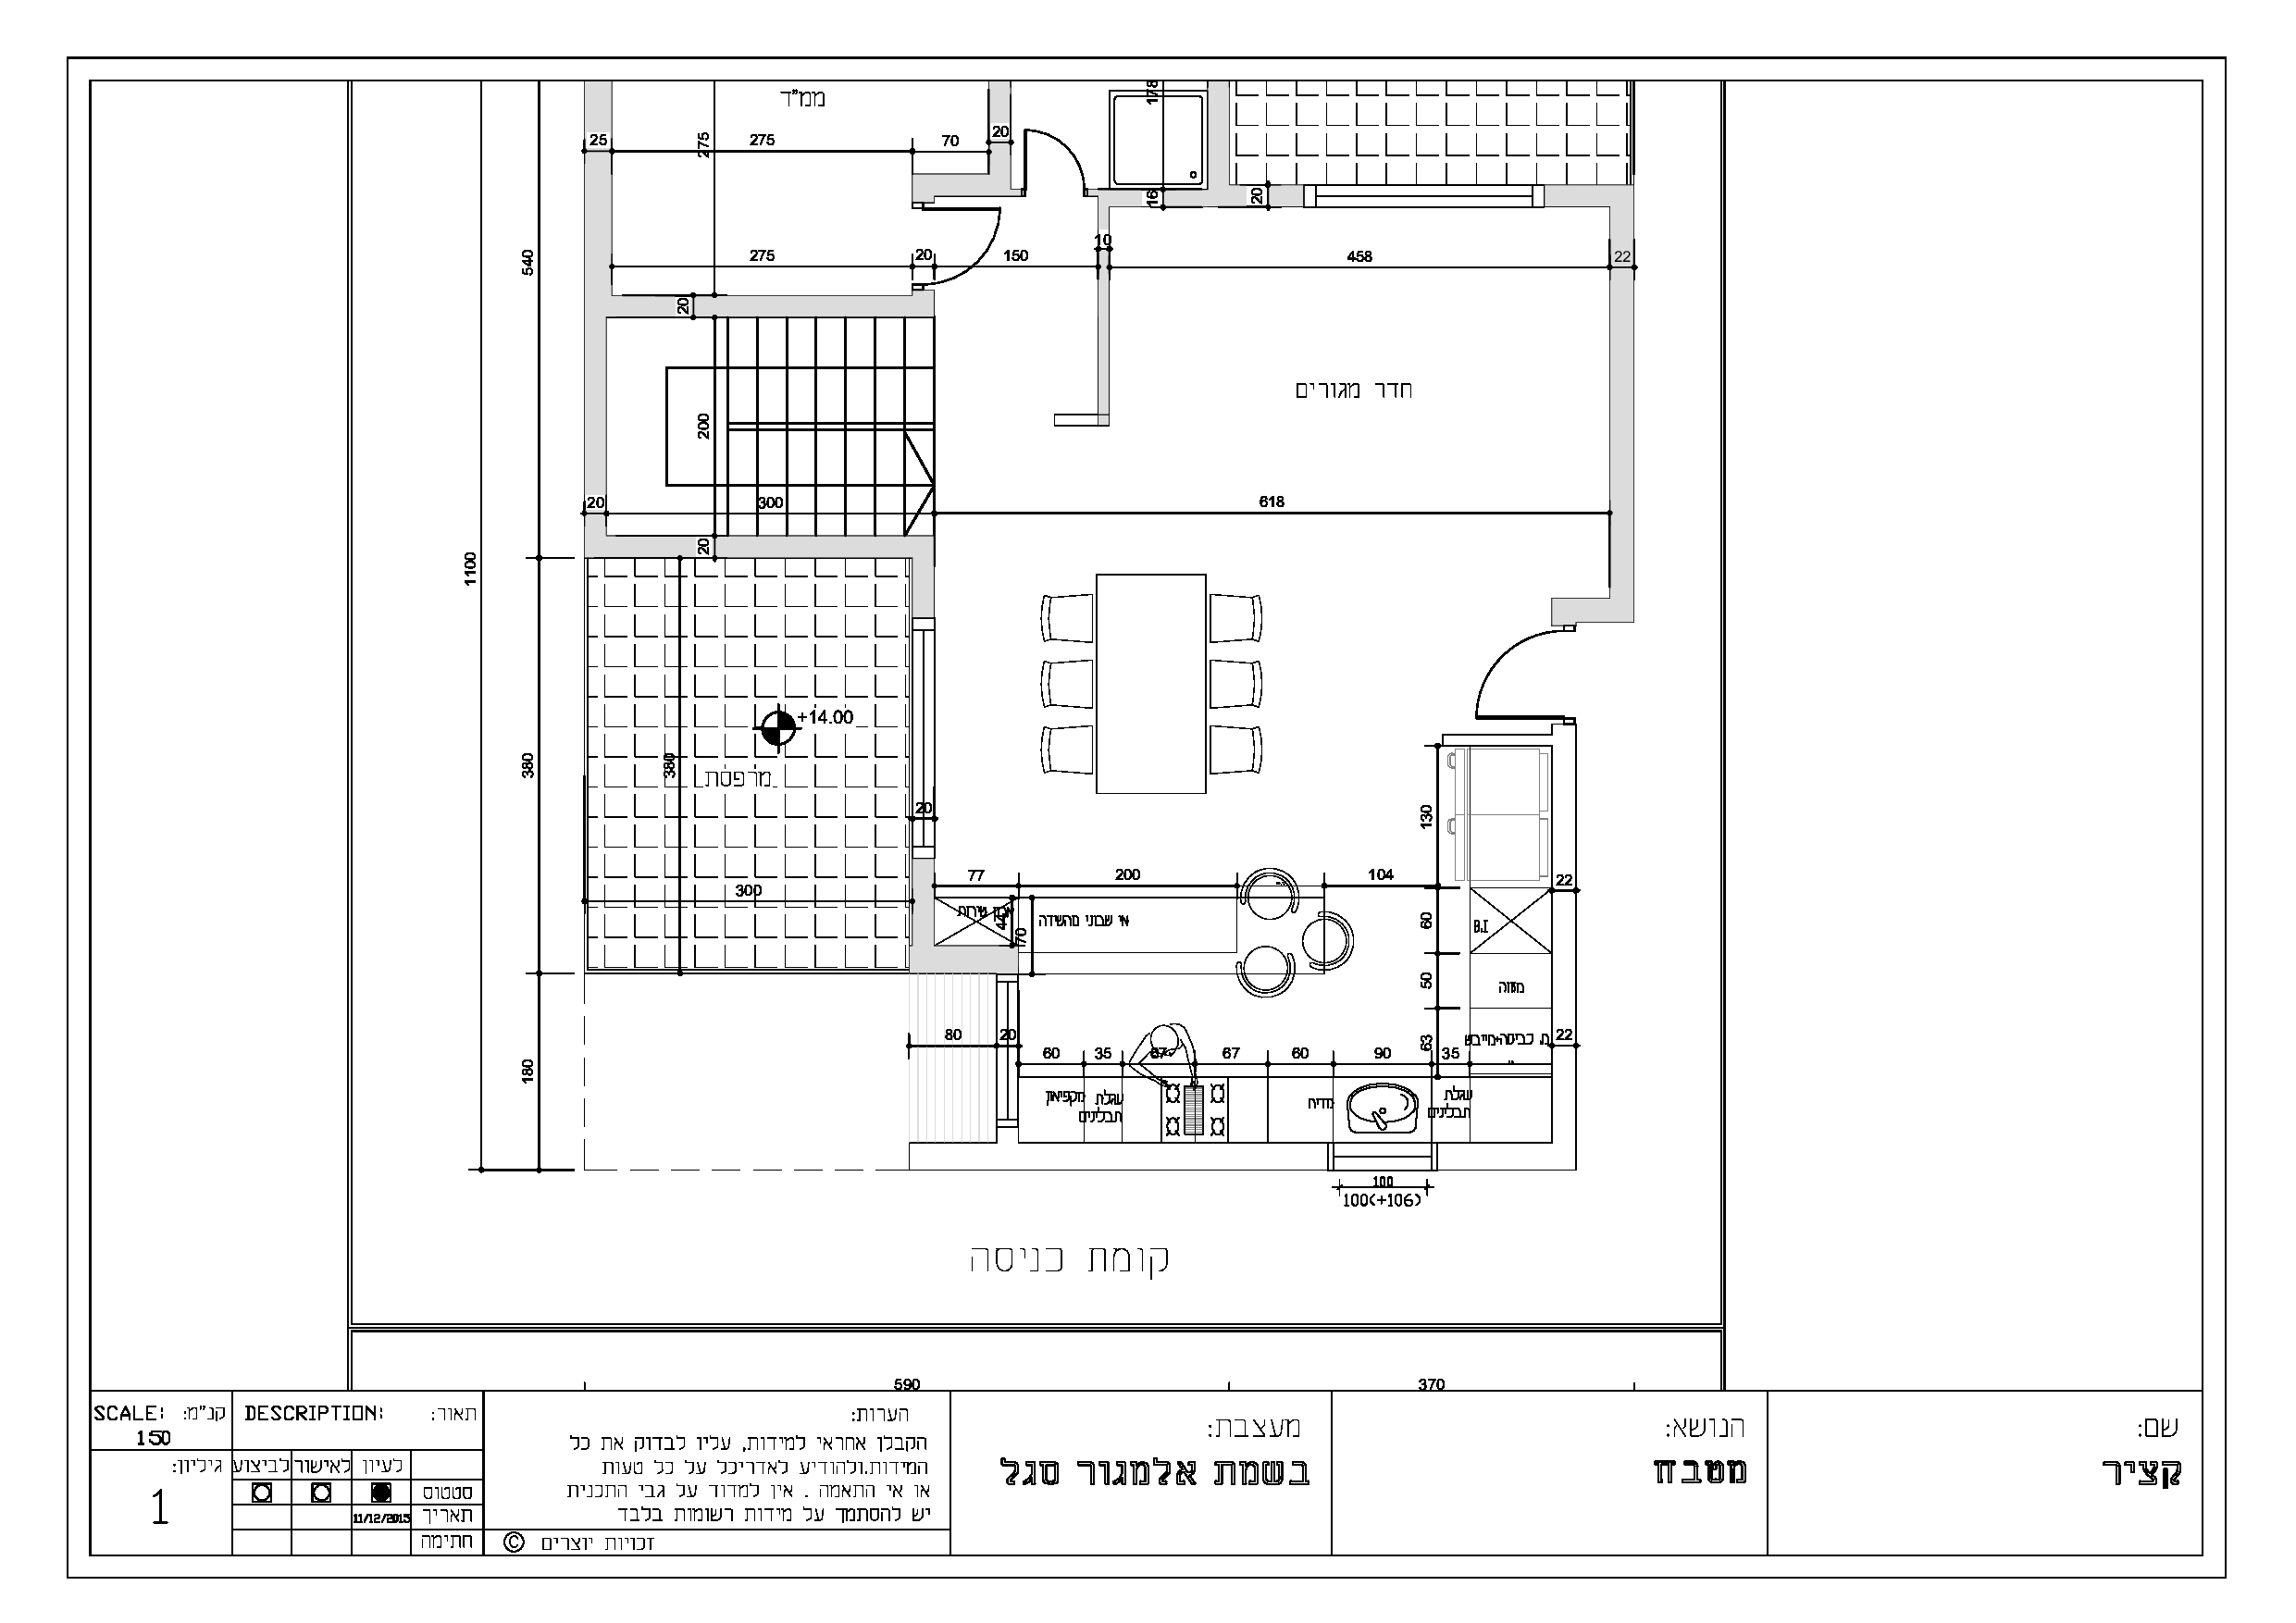door: (1470, 627, 1570, 727), (1017, 123, 1093, 186)
window: (1307, 184, 1544, 209), (917, 627, 931, 843)
